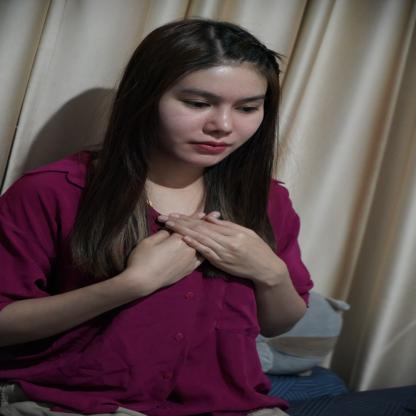Grieve: (101, 203, 295, 302)
